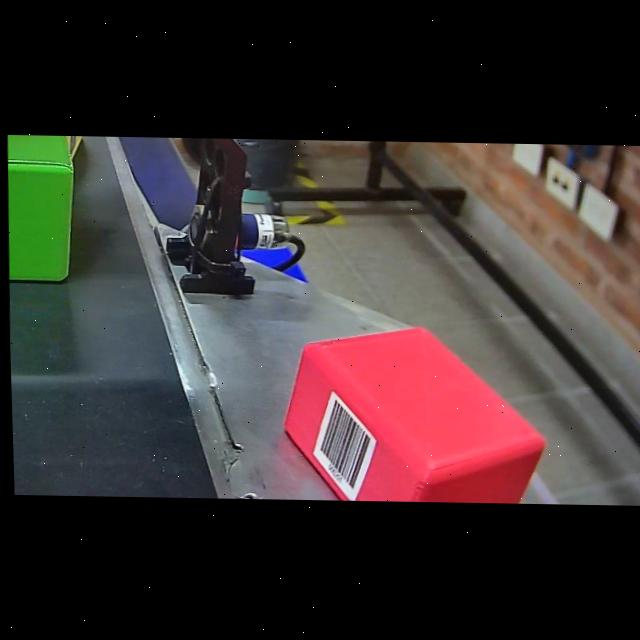greenBox: (4, 134, 82, 290)
redBox: (270, 316, 554, 504)
yellowBox: (6, 134, 85, 176)
